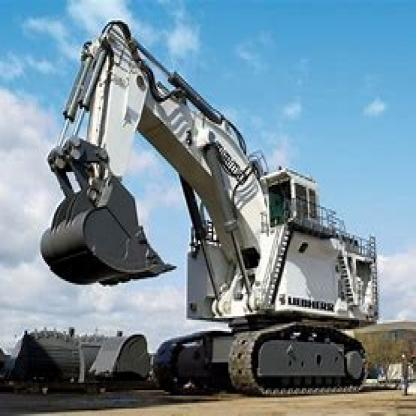excavator: (36, 15, 383, 394)
